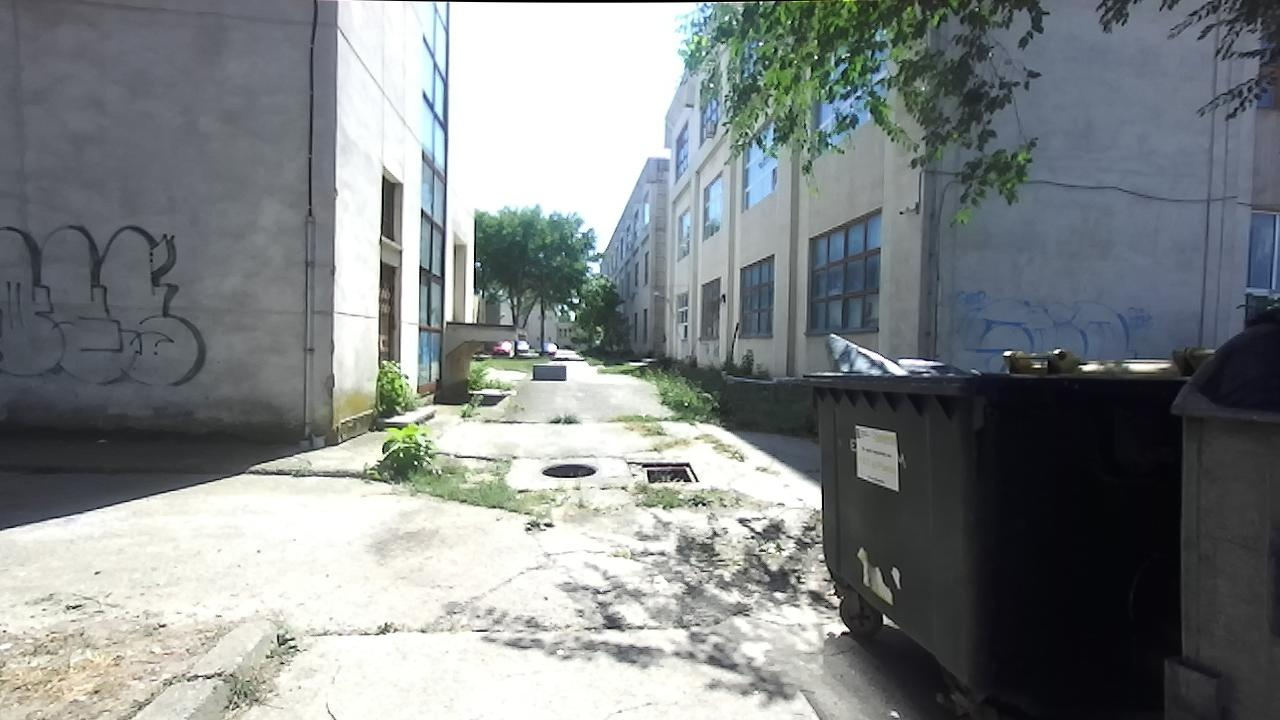drain: (640, 459, 704, 488), (537, 459, 600, 483)
